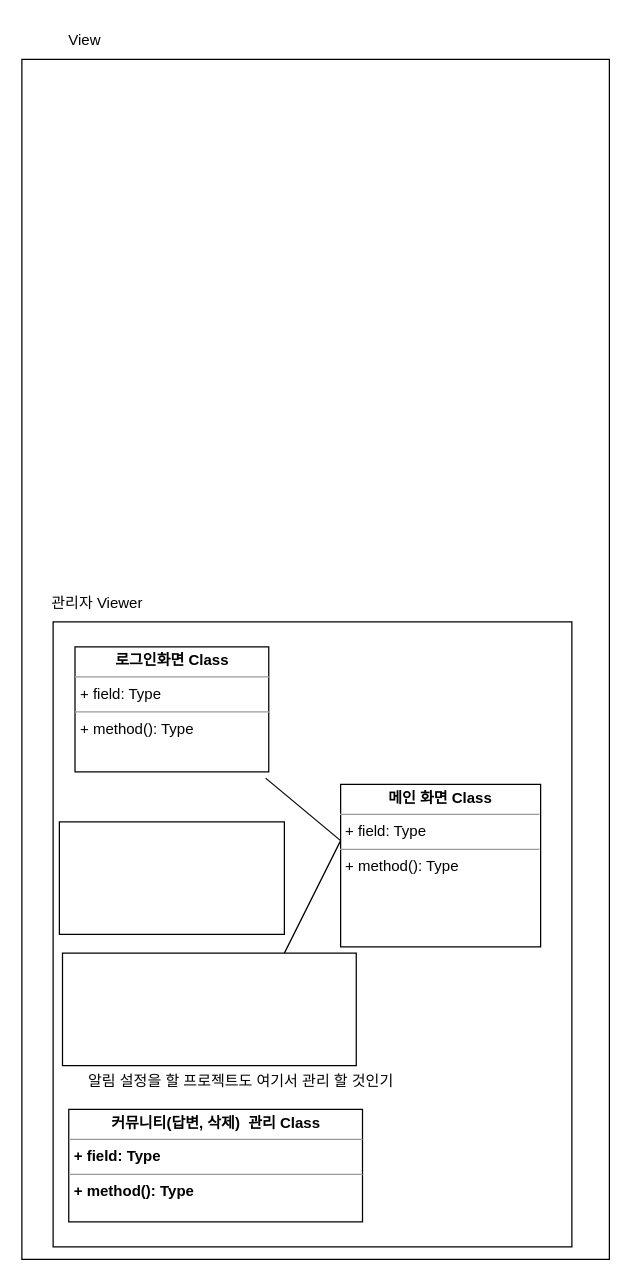
Some shapes in this 631 by 1281 pixel diagram are drawn without their labels. Here are the shapes that lost their labels. From the top down, the centre of each, then its label:
the point at 171,877: 회원(구매자, 판매자) 관리 Class + field: Type + method(): Type
the point at 208,1009: 프로젝트(등록, 수정, 예약) 관리 Class + field: Type + method(): Type
